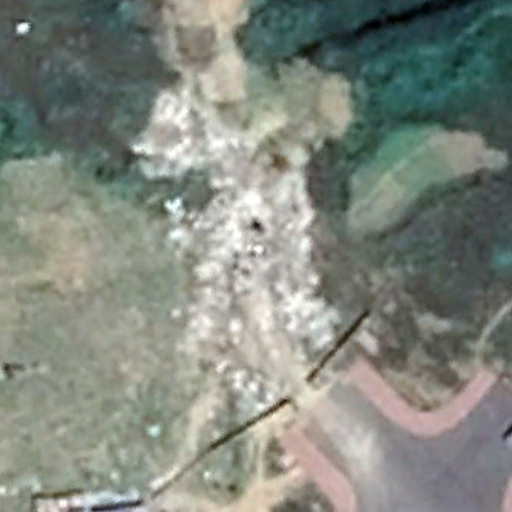msw: (141, 77, 346, 410)
